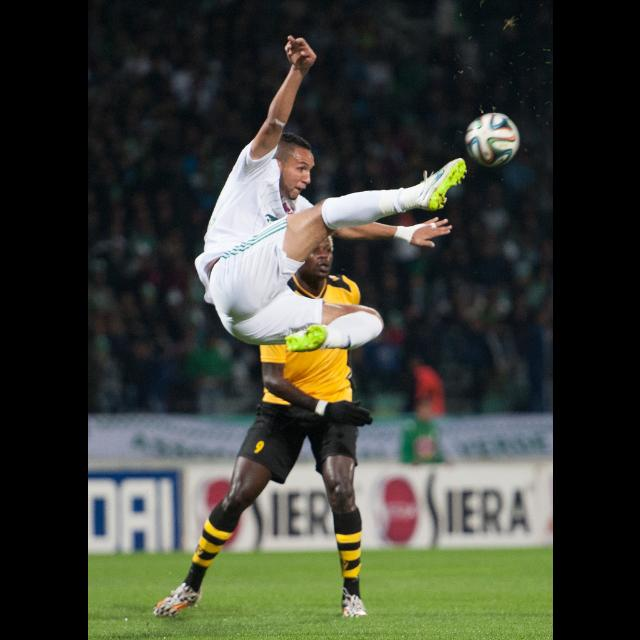Football: (460, 109, 520, 167)
